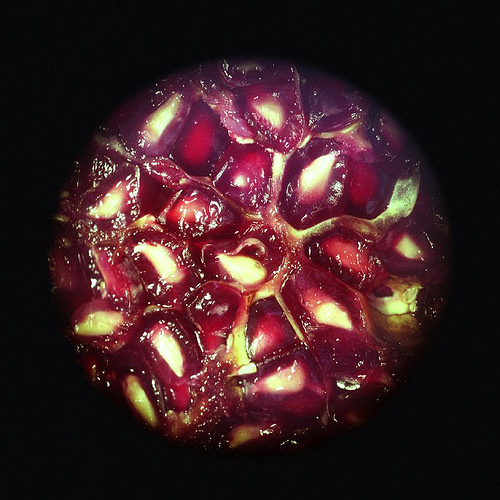pomogranate: (53, 60, 448, 453)
